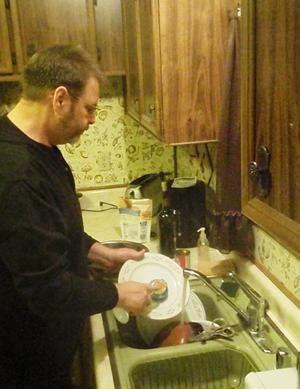person: (1, 45, 162, 389)
